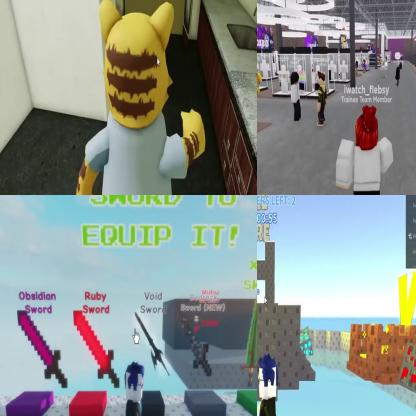Roblox-Avatar: (65, 1, 207, 195), (336, 105, 395, 195), (107, 362, 161, 416), (258, 354, 296, 416), (292, 72, 302, 123), (318, 71, 327, 127), (258, 65, 264, 97), (396, 62, 401, 88), (363, 60, 368, 76), (356, 61, 360, 77)
